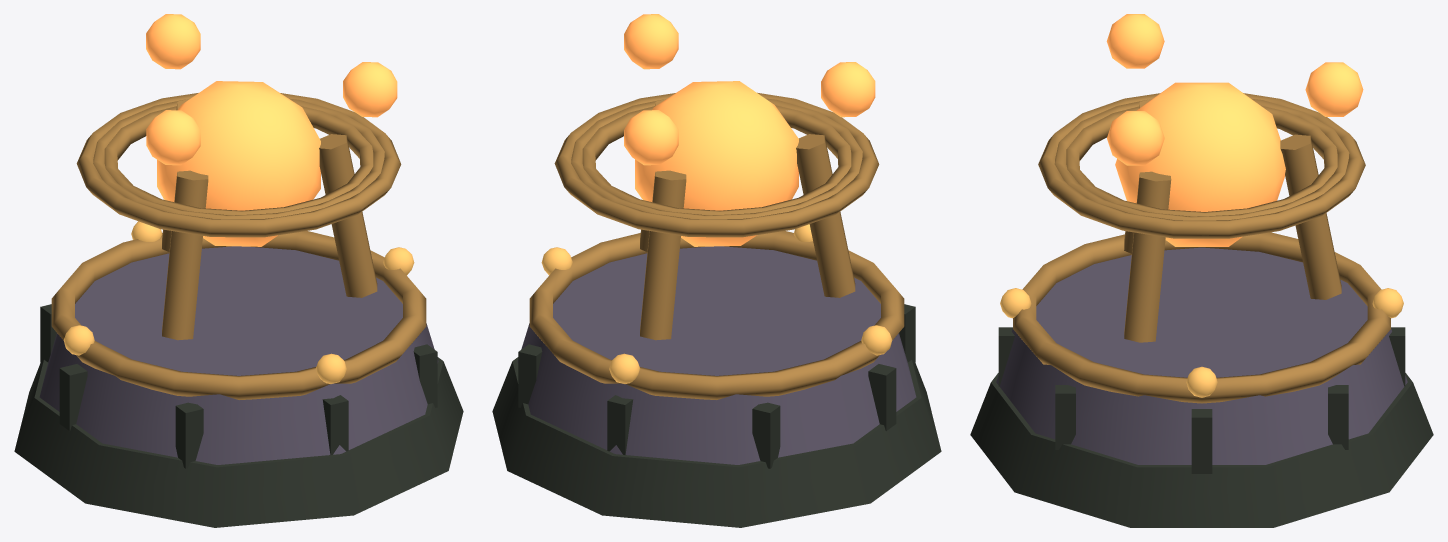
File: tower_meteor_meteorForge_ultimate.glb
3 renders of one model, left to right at view 1: azimuth 30°, elevation 25°; view 2: azimuth 150°, elevation 25°; view 3: azimuth 270°, elevation 25°, orthographic.
Parts seen in each view (by area): view 1: stone_1, foot_0, meteor_18, rim_2, armillary_21, armillary_19, claw_17, claw_16, armillary_20, falling_star_24, falling_star_22, falling_star_23 (+8 smaller); view 2: stone_1, foot_0, meteor_18, rim_2, armillary_21, armillary_19, claw_15, claw_17, armillary_20, falling_star_22, falling_star_23, falling_star_24 (+8 smaller); view 3: stone_1, foot_0, meteor_18, rim_2, armillary_21, armillary_19, claw_16, claw_15, armillary_20, falling_star_22, falling_star_23, falling_star_24 (+8 smaller).
Boxes of the visible parts, <box> form: stone_1: <box>39,246,438,464</box>; foot_0: <box>14,357,463,527</box>; meteor_18: <box>157,81,320,246</box>; rim_2: <box>51,231,426,399</box>; armillary_21: <box>76,93,401,237</box>; armillary_19: <box>104,106,373,215</box>; claw_17: <box>162,170,208,340</box>; claw_16: <box>319,134,377,297</box>; armillary_20: <box>93,98,384,219</box>; falling_star_24: <box>146,110,200,165</box>; falling_star_22: <box>146,14,200,69</box>; falling_star_23: <box>343,62,397,117</box>; stone_1: <box>517,246,916,464</box>; foot_0: <box>492,357,941,527</box>; meteor_18: <box>635,81,798,246</box>; rim_2: <box>529,231,904,399</box>; armillary_21: <box>554,92,879,237</box>; armillary_19: <box>582,105,851,215</box>; claw_15: <box>640,170,686,340</box>; claw_17: <box>796,134,855,297</box>; armillary_20: <box>571,98,862,219</box>; falling_star_22: <box>624,110,678,165</box>; falling_star_23: <box>624,14,678,69</box>; falling_star_24: <box>821,62,875,117</box>; stone_1: <box>996,247,1407,464</box>; foot_0: <box>970,373,1433,527</box>; meteor_18: <box>1115,82,1285,246</box>; rim_2: <box>1013,232,1390,403</box>; armillary_21: <box>1038,93,1365,238</box>; armillary_19: <box>1066,105,1337,216</box>; claw_16: <box>1124,171,1171,342</box>; claw_15: <box>1280,134,1341,299</box>; armillary_20: <box>1054,98,1349,220</box>; falling_star_22: <box>1305,62,1363,116</box>; falling_star_23: <box>1107,111,1164,165</box>; falling_star_24: <box>1106,14,1164,68</box>.
Bounding box in the file's own units: 0.5326 × 0.495 × 0.56.
